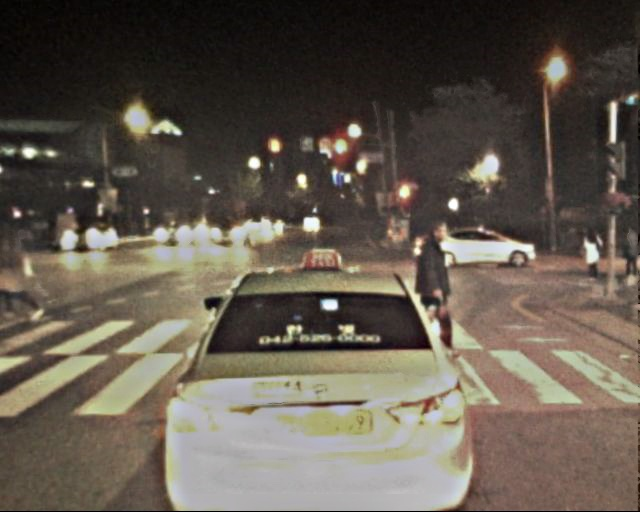person: (407, 220, 462, 354), (1, 222, 46, 317), (579, 228, 605, 292), (619, 227, 640, 282)
